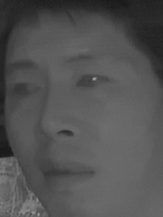eye: (74, 70, 110, 94), (8, 78, 41, 101)
mouth: (38, 152, 98, 190)
